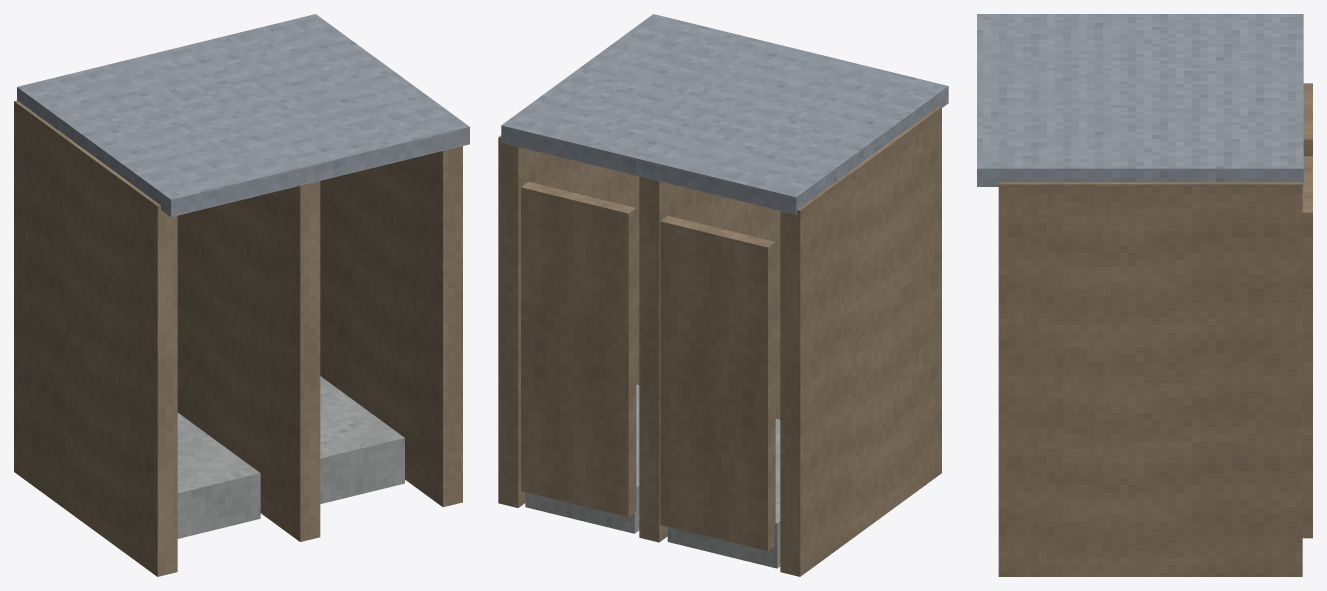
Rendered from level_blockout_camp_bathhouse_privacy_stalls.glb.
3 renders of one model, left to right at view 1: azimuth 30°, elevation 25°; view 2: azimuth 150°, elevation 25°; view 3: azimuth 270°, elevation 25°, orthographic. The views are drawn at different scales.
Parts seen in each view (by area): view 1: level_blockout_camp_bathhouse_privacy_stalls; view 2: level_blockout_camp_bathhouse_privacy_stalls; view 3: level_blockout_camp_bathhouse_privacy_stalls.
Boxes of the visible parts, <box> form: level_blockout_camp_bathhouse_privacy_stalls: <box>14,14,469,576</box>; level_blockout_camp_bathhouse_privacy_stalls: <box>498,14,948,576</box>; level_blockout_camp_bathhouse_privacy_stalls: <box>977,14,1312,576</box>.
Bounding box in the file's own units: 1.82 × 2.19 × 1.63.
Materials: 3 (3 with a texture image).
